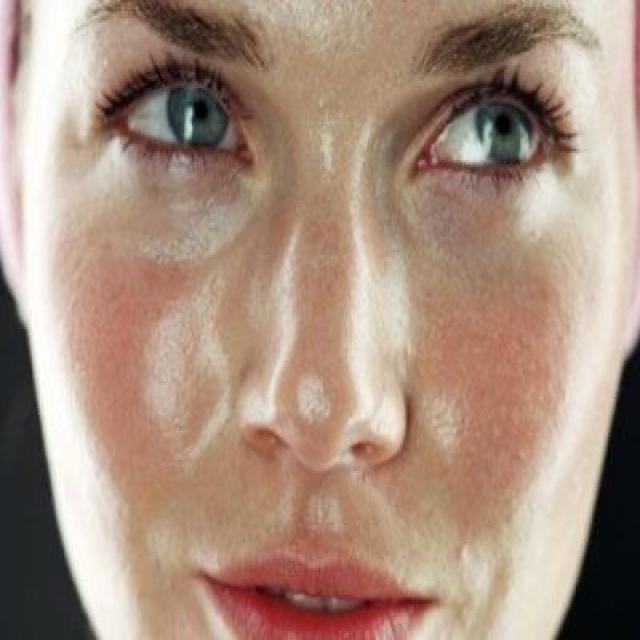Oily-Skin: (41, 185, 232, 531), (414, 233, 585, 548), (290, 21, 377, 436)
